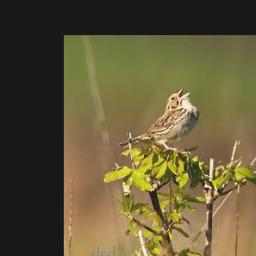Sparrow: (117, 87, 200, 153)
